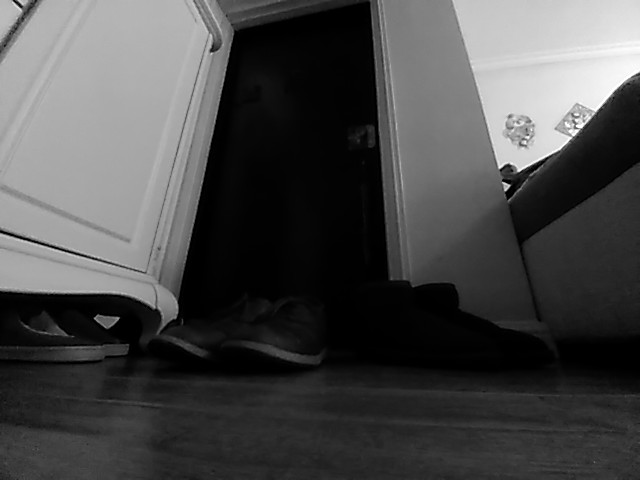shoe: (401, 282, 546, 372), (210, 296, 329, 369), (144, 297, 267, 363), (1, 304, 107, 362)
